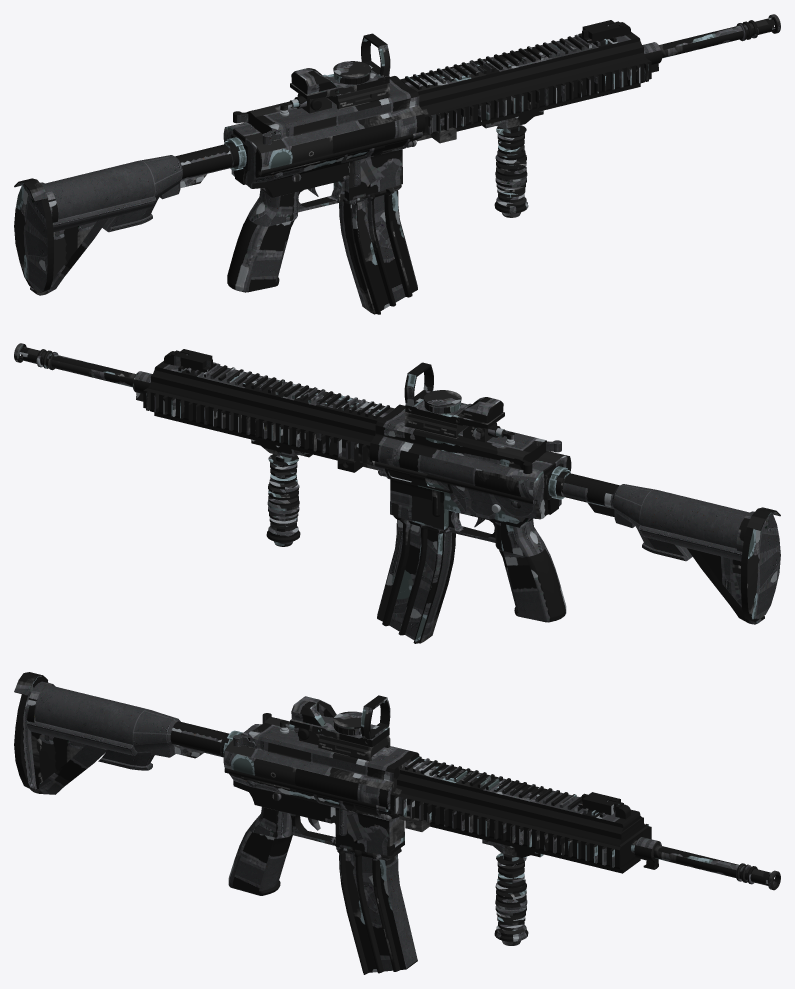
The model's file is uploads_files_6051274_m416final.glb.
The picture shows the model from 3 angles, top to bottom: view 1: azimuth 30°, elevation 25°; view 2: azimuth 150°, elevation 25°; view 3: azimuth 330°, elevation 25°; orthographic projection.
Visible parts, largest first — view 1: pCube12, polySurface15, polySurface8, pCube11, pCube9, pCylinder12, pCylinder8, polySurface3, pCube14, pCylinder9, polySurface5, pCube5 (+5 smaller); view 2: polySurface15, pCube12, polySurface8, pCube11, pCube9, pCylinder12, pCylinder8, polySurface3, pCube14, pCylinder9, polySurface5, pCube5 (+5 smaller); view 3: pCube12, polySurface15, polySurface8, pCube11, pCube9, pCube14, pCylinder8, polySurface3, pCylinder12, pCylinder9, pCube5, polySurface5 (+6 smaller).
Boxes of the visible parts, <box> form: pCube12: <box>400,32,651,141</box>; polySurface15: <box>223,76,425,212</box>; polySurface8: <box>45,155,182,232</box>; pCube11: <box>339,185,417,314</box>; pCube9: <box>227,189,298,292</box>; pCylinder12: <box>14,178,53,293</box>; pCylinder8: <box>494,125,528,217</box>; polySurface3: <box>659,14,780,58</box>; pCube14: <box>30,219,107,295</box>; pCylinder9: <box>175,142,239,188</box>; polySurface5: <box>290,71,389,99</box>; pCube5: <box>326,83,390,109</box>; polySurface15: <box>369,404,571,542</box>; pCube12: <box>143,361,394,470</box>; polySurface8: <box>612,484,749,561</box>; pCube11: <box>377,515,455,643</box>; pCube9: <box>494,519,566,622</box>; pCylinder12: <box>741,507,780,622</box>; pCylinder8: <box>266,454,300,546</box>; polySurface3: <box>14,343,135,387</box>; pCube14: <box>687,548,764,624</box>; pCylinder9: <box>555,471,619,516</box>; polySurface5: <box>405,400,504,428</box>; pCube5: <box>404,412,468,438</box>; pCube12: <box>388,756,651,873</box>; polySurface15: <box>223,717,419,855</box>; polySurface8: <box>26,685,180,770</box>; pCube11: <box>336,846,417,974</box>; pCube9: <box>228,807,292,895</box>; pCube14: <box>30,732,107,794</box>; pCylinder8: <box>494,853,528,945</box>; polySurface3: <box>631,839,780,890</box>; pCylinder12: <box>14,672,48,789</box>; pCylinder9: <box>170,721,229,758</box>; pCube5: <box>318,735,390,761</box>; polySurface5: <box>290,716,389,747</box>.
Size of the model in its own units: 1.28 by 0.4362 by 0.1123.
Materials: 1 (1 with a texture image).
